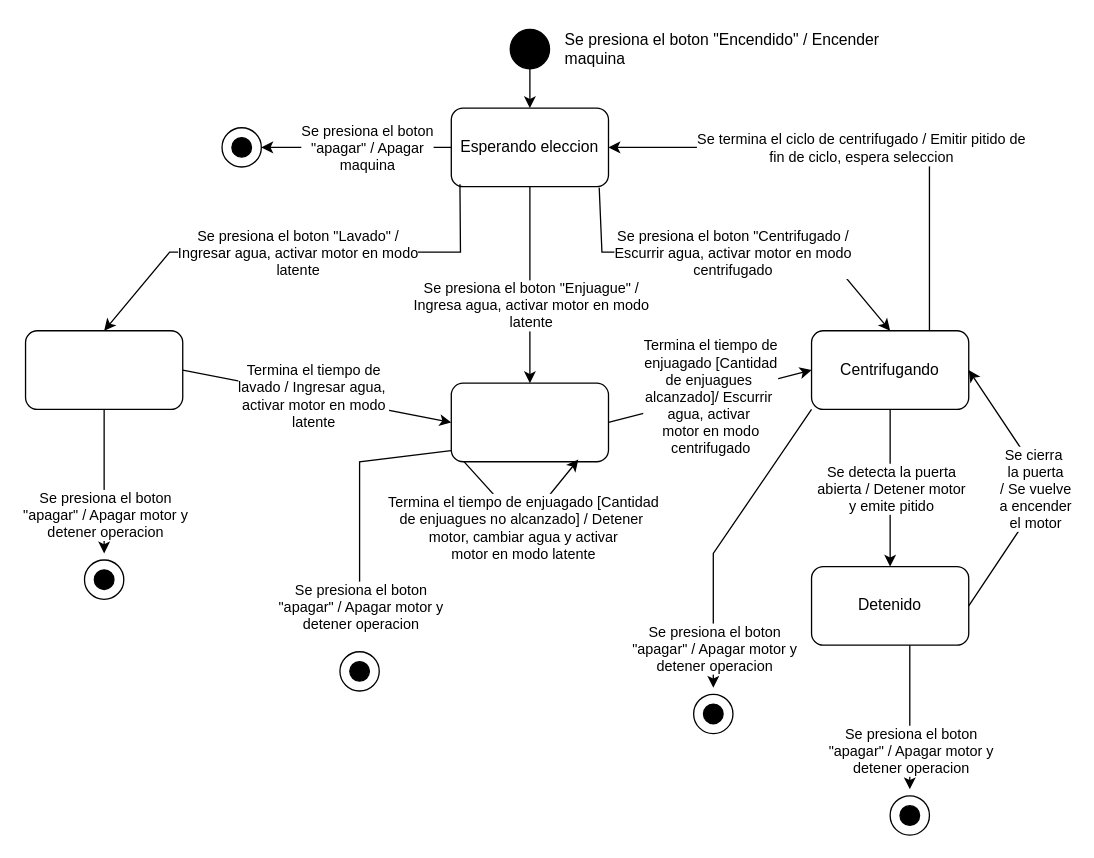
The diagram is 1094 pixels wide and 858 high, and some of its shapes have lost their labels. Each missing label, with the centre of its shape:
"Enjuagando" goes at point 529,422.
"Lavando" goes at point 103,369.
